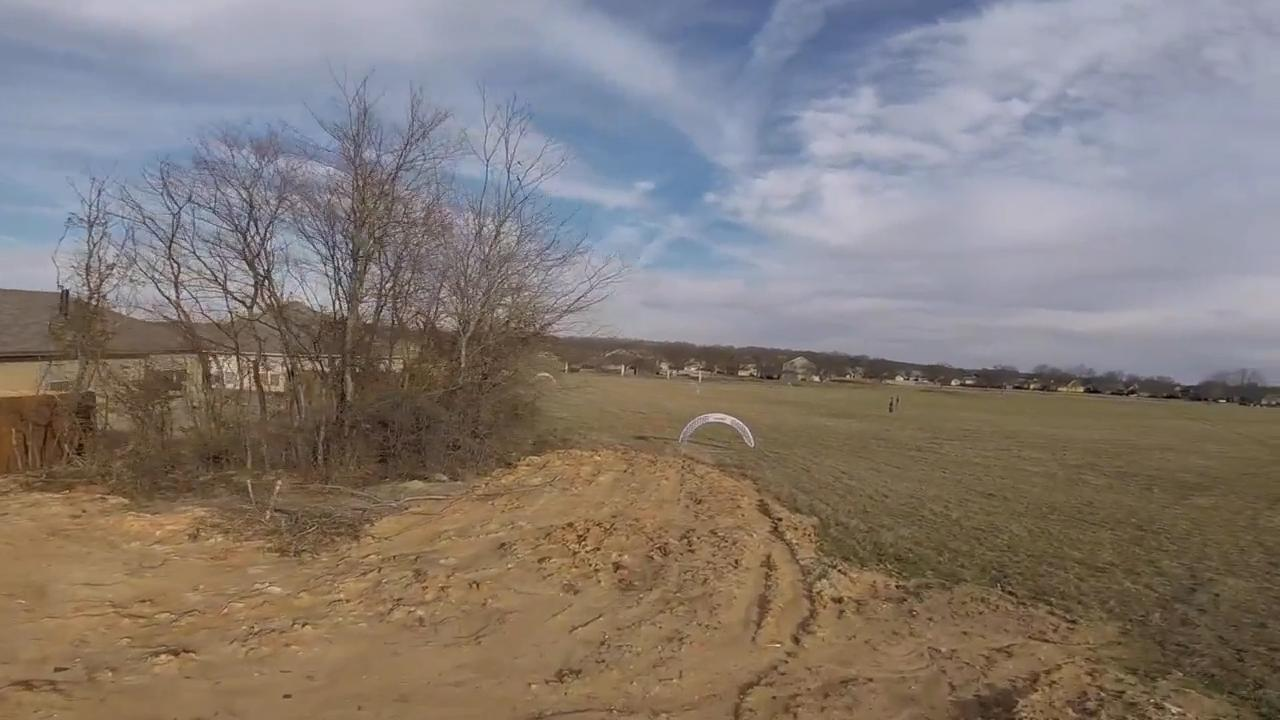gate: (679, 413, 756, 456)
